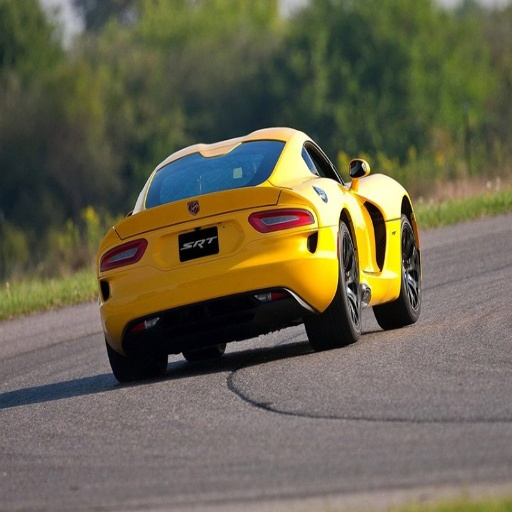back_bumper: (106, 270, 219, 330)
trunk: (104, 190, 273, 296)
